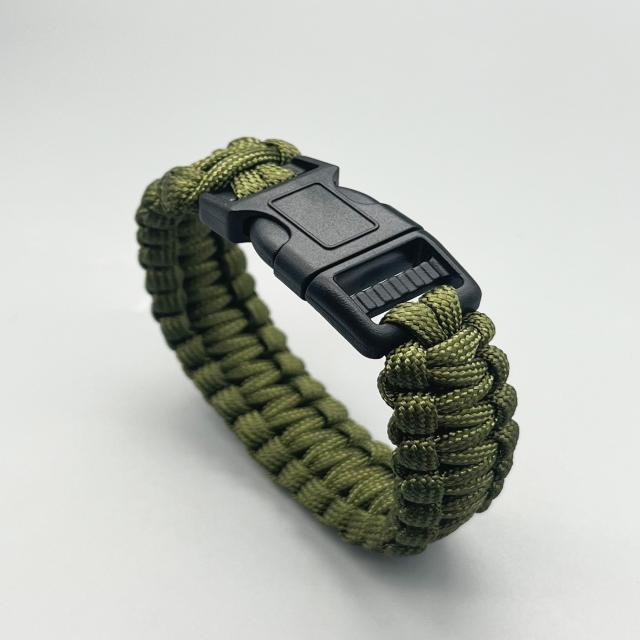bracelet: (70, 73, 619, 591)
